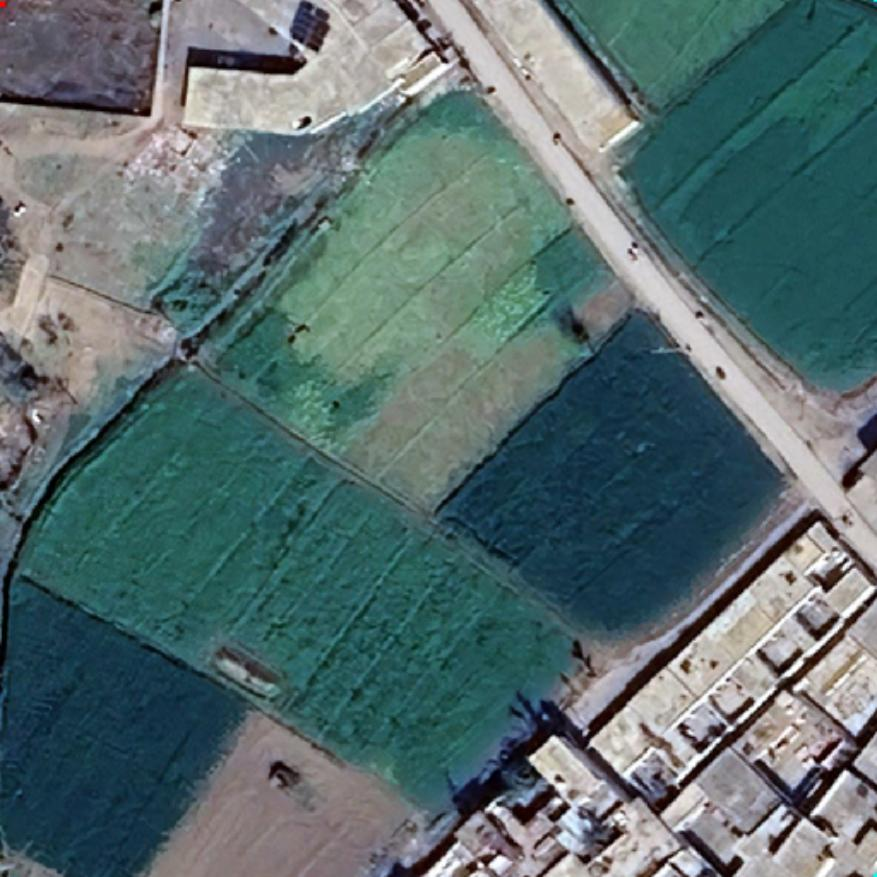Solarpanel: (284, 0, 334, 56)
